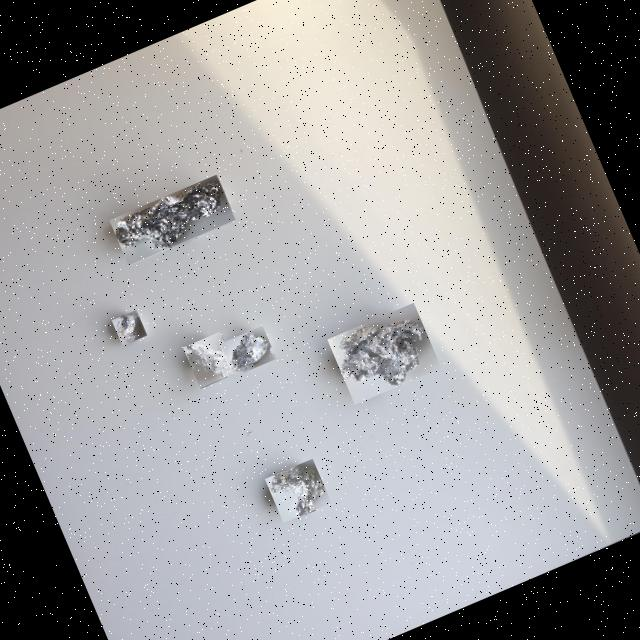Aluminium foil: (117, 181, 223, 249), (339, 319, 423, 385), (269, 466, 324, 516), (230, 332, 270, 372), (188, 344, 232, 377), (117, 313, 142, 341)
